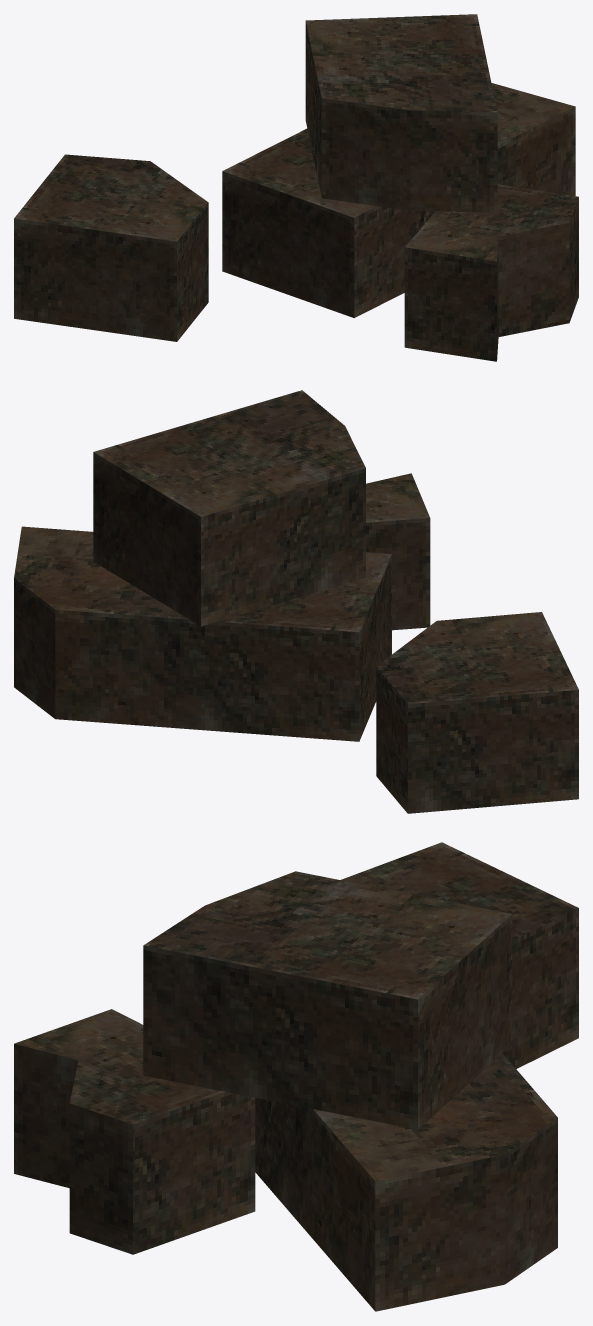
File: bricks_stacked_mx_2.glb
3 views of the same model, one above another, from view 1: azimuth 30°, elevation 25°; view 2: azimuth 150°, elevation 25°; view 3: azimuth 270°, elevation 25° (orthographic). The views are drawn at different scales.
Parts seen in each view (by area): view 1: bricks_stacked_mx_2; view 2: bricks_stacked_mx_2; view 3: bricks_stacked_mx_2.
Boxes of the visible parts, x1=… form: bricks_stacked_mx_2: x1=14, y1=14, x2=578, y2=361; bricks_stacked_mx_2: x1=14, y1=390, x2=578, y2=813; bricks_stacked_mx_2: x1=14, y1=842, x2=578, y2=1311.
Bounding box in the file's own units: 0.5033 × 0.18 × 0.3541.
Materials: 1 (1 with a texture image).
